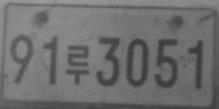0: (124, 37, 149, 87)
1: (185, 39, 209, 89), (39, 35, 63, 84)
3: (95, 36, 121, 87)
5: (153, 38, 179, 88)
9: (9, 33, 34, 83)
루: (65, 43, 90, 85)
